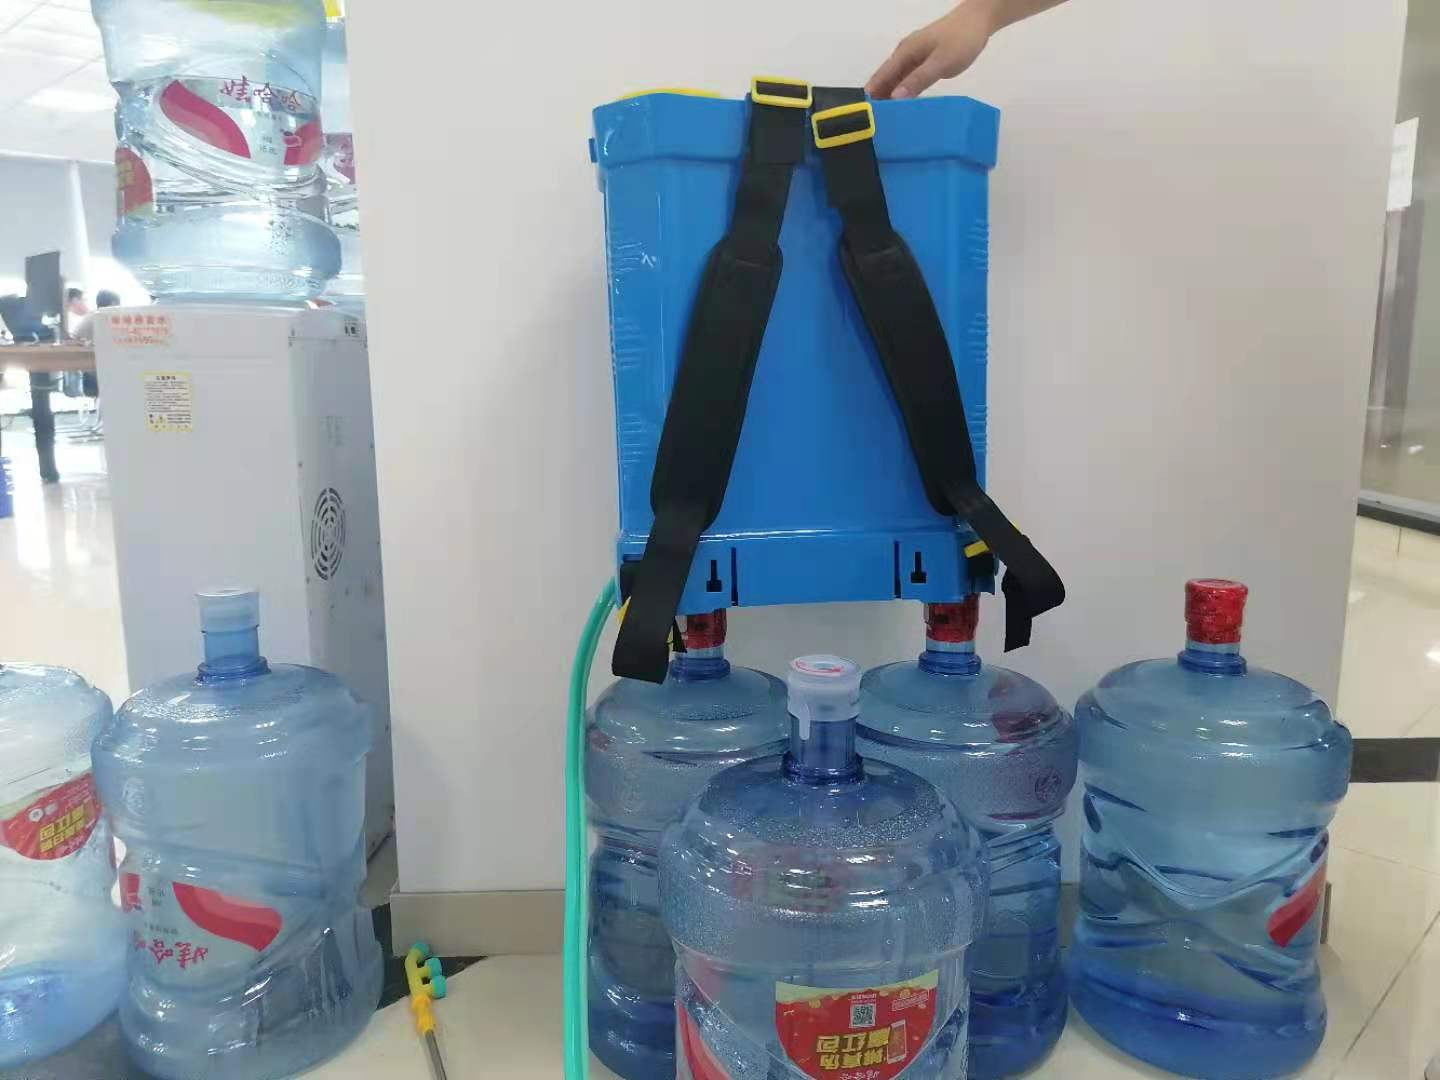berrl: (578, 85, 1018, 611)
